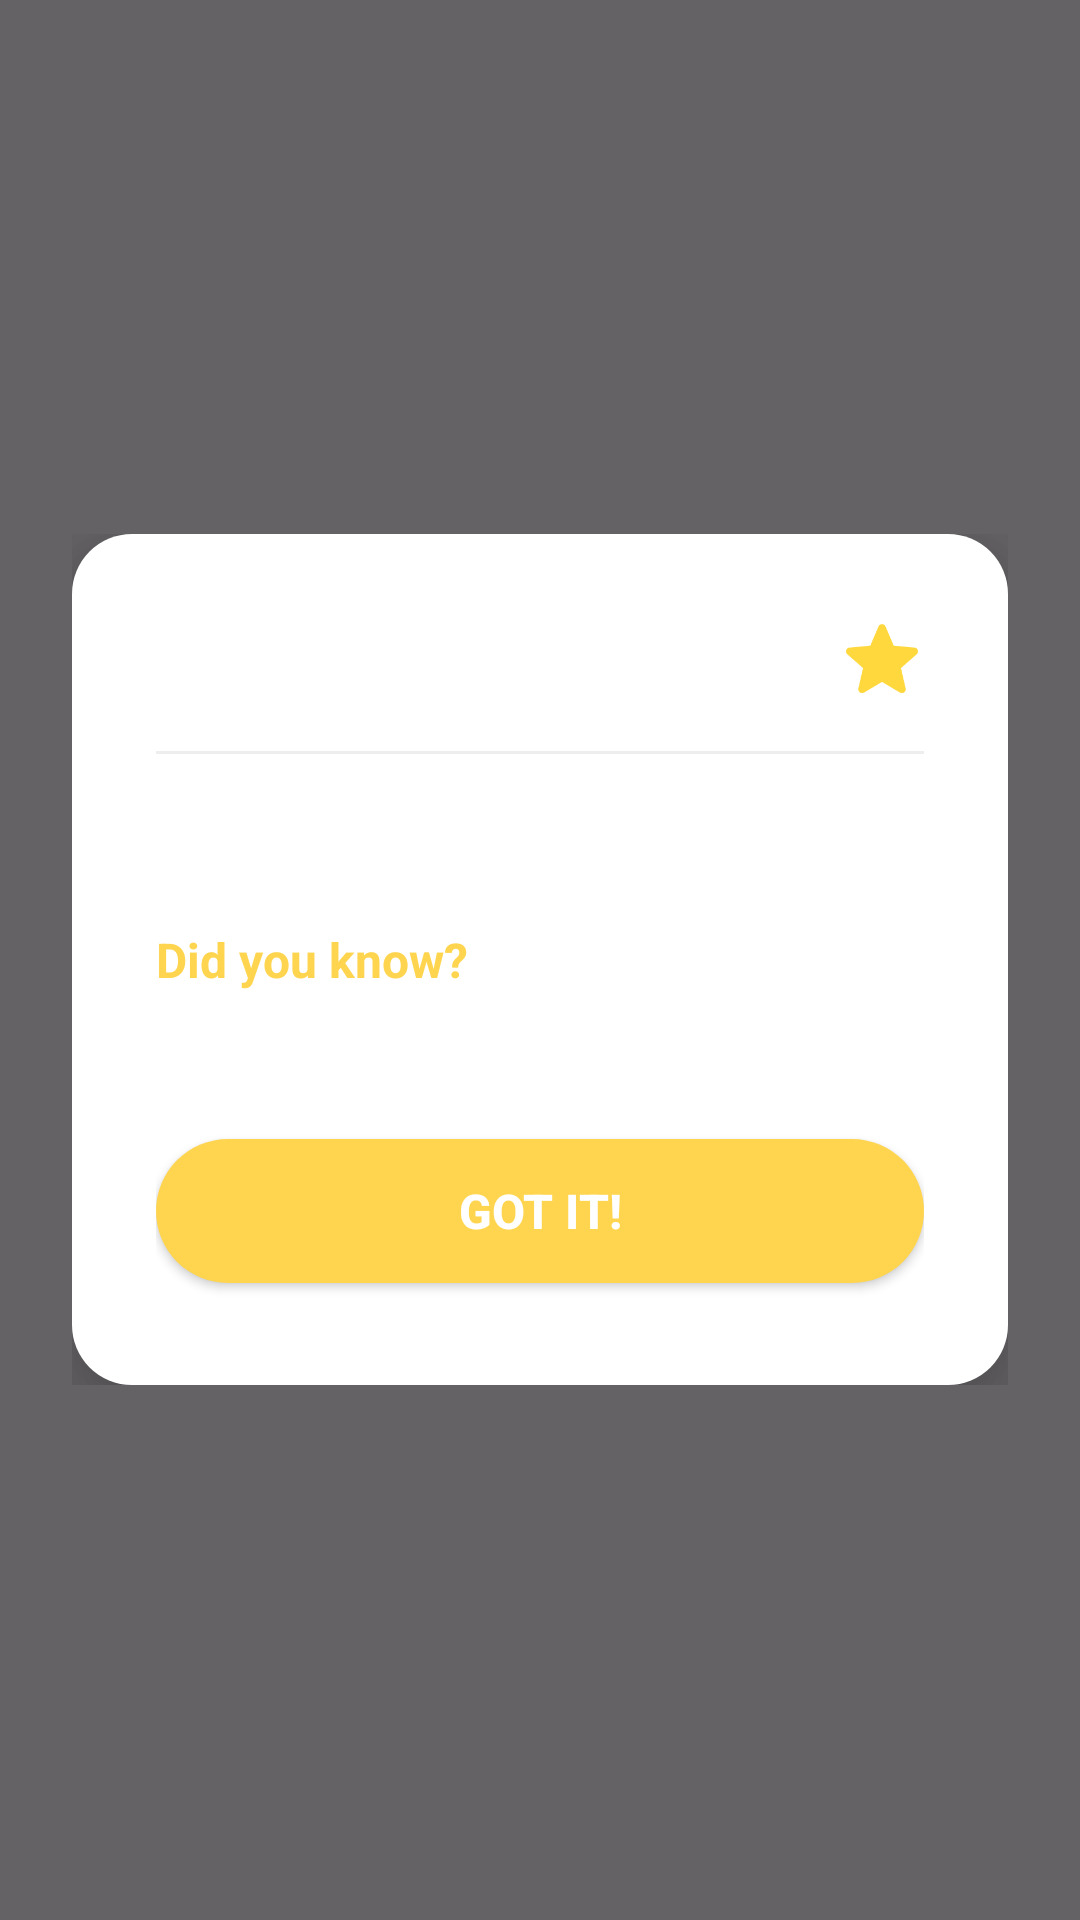

Locate icon controls on the screen. Image size 1080px x 1920px, boxes as (x1, y1, x2, y2).
star: (846, 624, 918, 693)
